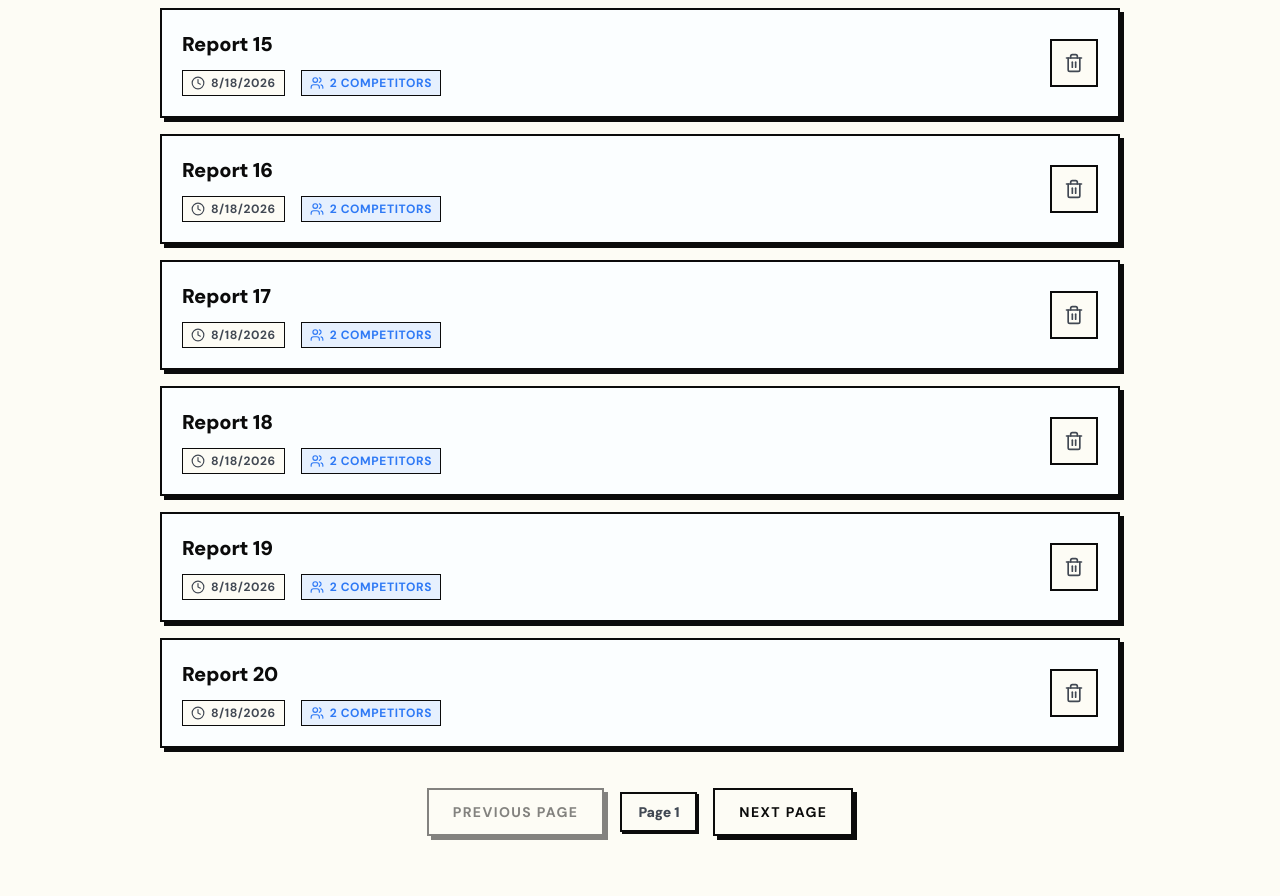
Test: HistoryPage › requests paginated report pages and supports page navigation
(page scrolled)
Click the button "Next page" at (783, 812), box top-left (713, 788), bottom-right (853, 836)
(page scrolled)
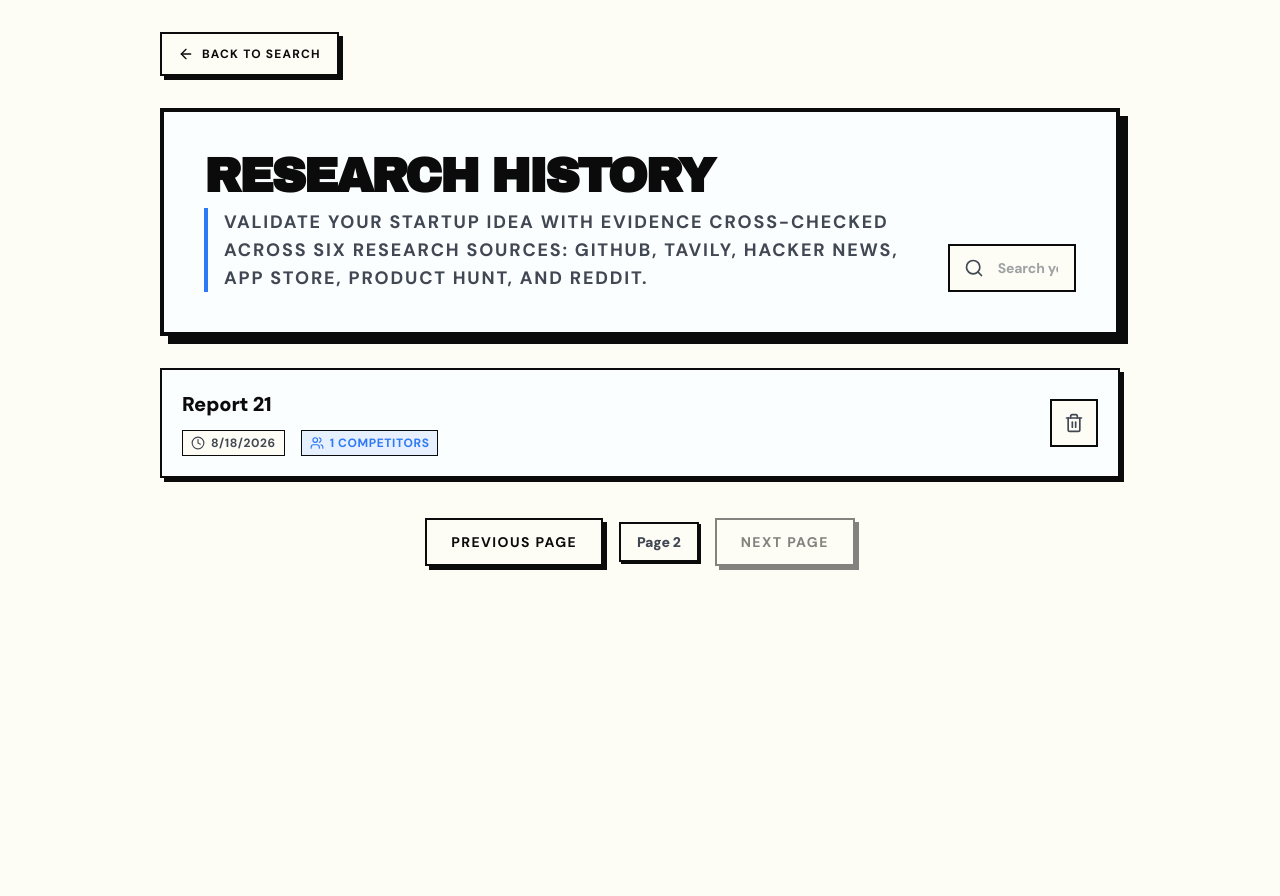
expect the link "Report 21" is shown: met, box top-left (182, 391), bottom-right (272, 417)
expect the button "Next page" is disabled: met, box top-left (715, 518), bottom-right (855, 566)
Click the button "Previous page" at (514, 542), box top-left (425, 518), bottom-right (603, 566)
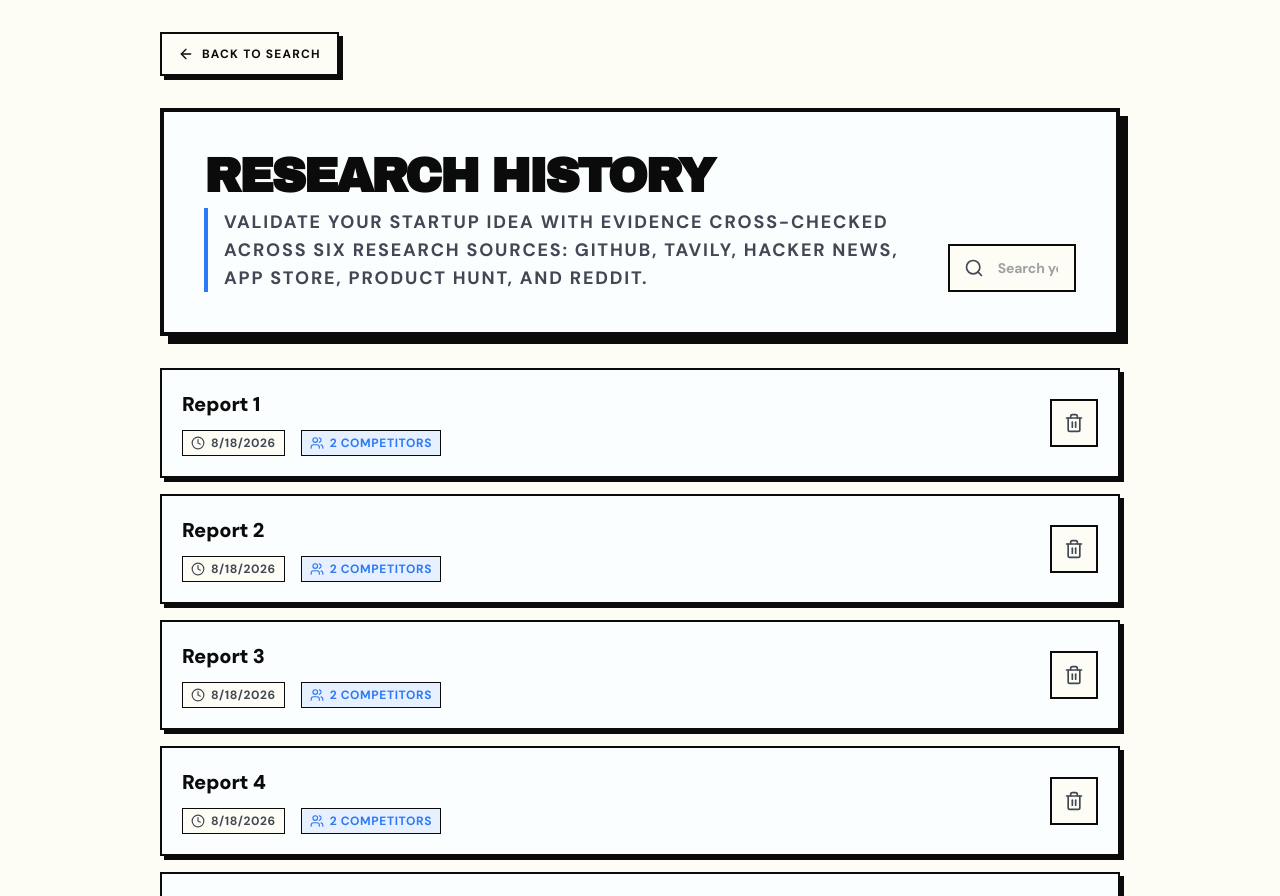
expect the link "Report 1" is shown: met, box top-left (182, 391), bottom-right (260, 417)
